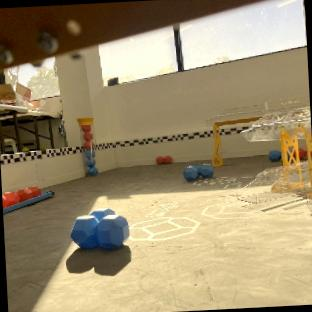Loader: (78, 117, 96, 173)
Parking-R: (2, 190, 53, 211)
V5_BLUE: (70, 209, 128, 248), (183, 163, 213, 180), (86, 150, 96, 172), (269, 150, 281, 160)
V5_RED: (17, 186, 40, 200), (156, 155, 171, 163), (85, 128, 91, 148), (298, 149, 305, 158)
